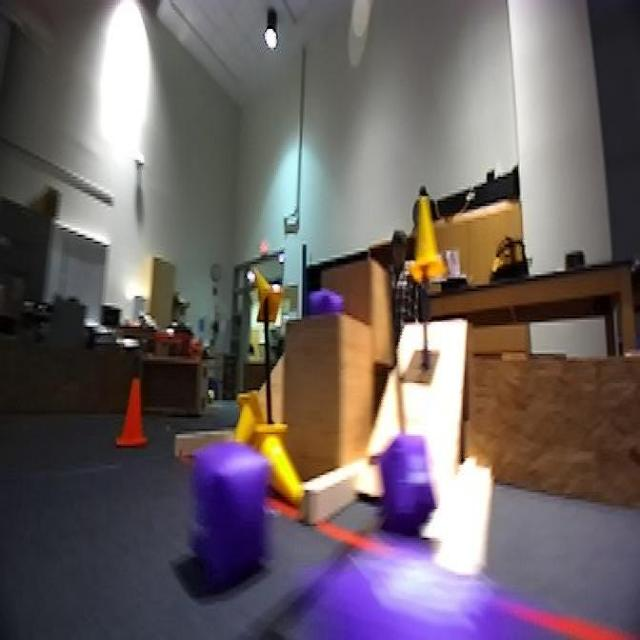frc_cone: (257, 426, 296, 498), (410, 202, 440, 272), (250, 264, 284, 325), (234, 386, 270, 434)
frc_cube: (284, 529, 518, 640), (182, 434, 271, 591), (386, 438, 435, 519), (308, 284, 350, 318)
